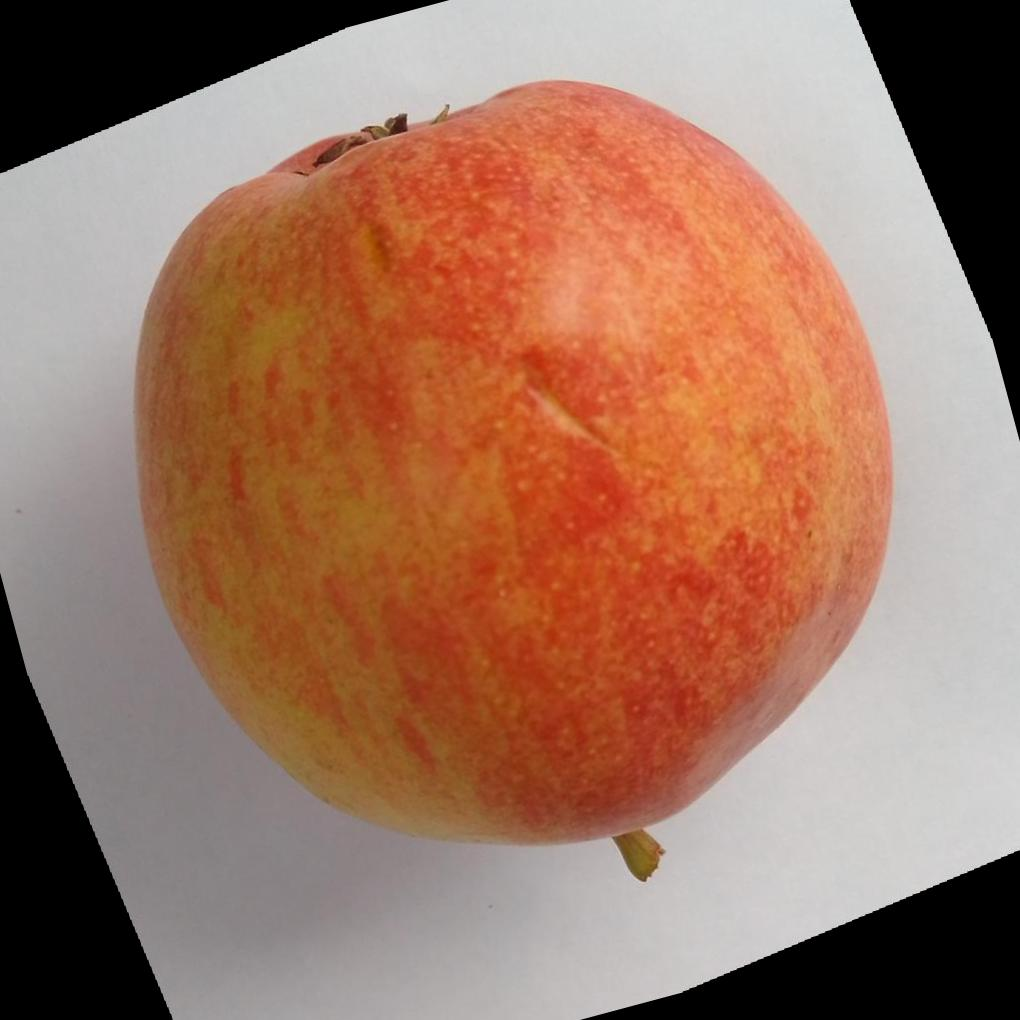FreshGuava: (129, 73, 893, 845)
